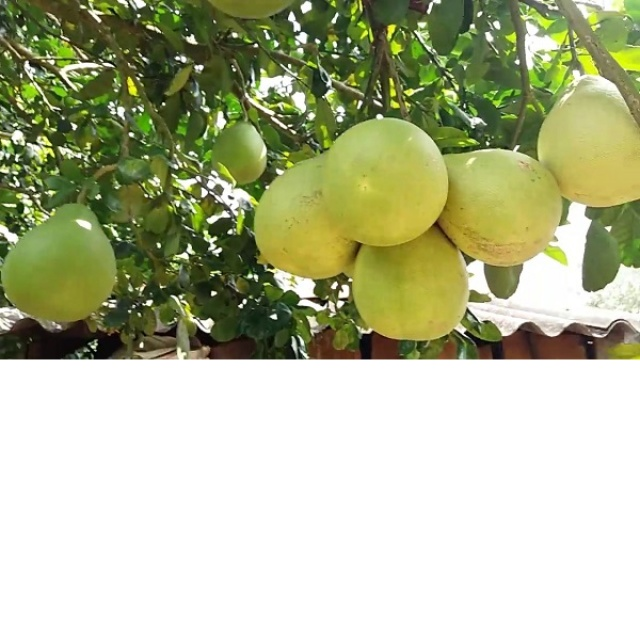buoi: (318, 116, 455, 248), (433, 148, 568, 269), (529, 74, 640, 209), (1, 202, 118, 324)
